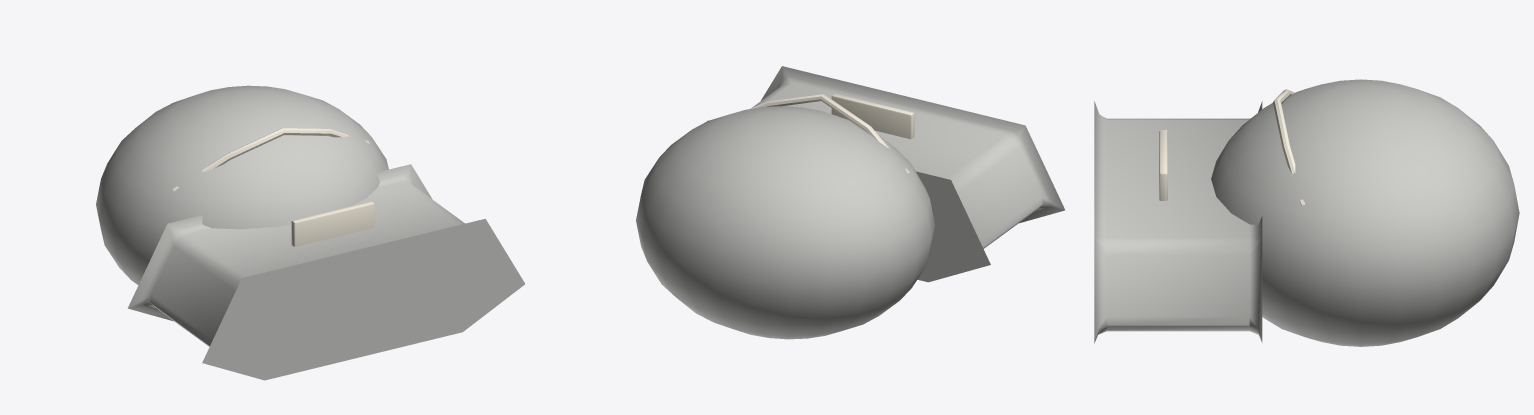
File: checkout_product_cap.glb
3 views of the same model, side by side, from view 1: azimuth 30°, elevation 25°; view 2: azimuth 150°, elevation 25°; view 3: azimuth 270°, elevation 25° (orthographic). The views are drawn at different scales.
Parts seen in each view (by area): view 1: CapBrim, CapCrown, CapBadge, CapSeam; view 2: CapCrown, CapBrim, CapBadge, CapSeam; view 3: CapCrown, CapBrim, CapSeam, CapBadge.
Boxes of the visible parts, x1,y1,x2,y2 form: CapBrim: [127, 164, 524, 380]; CapCrown: [96, 85, 388, 285]; CapBadge: [291, 201, 374, 246]; CapSeam: [172, 128, 369, 191]; CapCrown: [636, 106, 934, 339]; CapBrim: [707, 66, 1064, 282]; CapBadge: [831, 93, 914, 139]; CapSeam: [750, 94, 909, 172]; CapCrown: [1211, 79, 1519, 346]; CapBrim: [1094, 101, 1262, 343]; CapSeam: [1273, 89, 1305, 205]; CapBadge: [1159, 130, 1167, 200].
Bounding box in the file's own units: 0.2006 × 0.119 × 0.2024.
